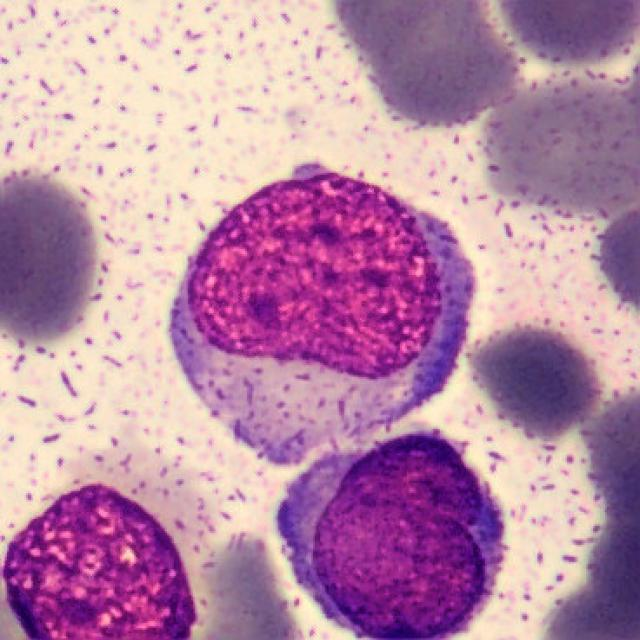Mieloblasto: (169, 171, 475, 465), (277, 431, 508, 640)
Restos celulares: (2, 484, 197, 640)
